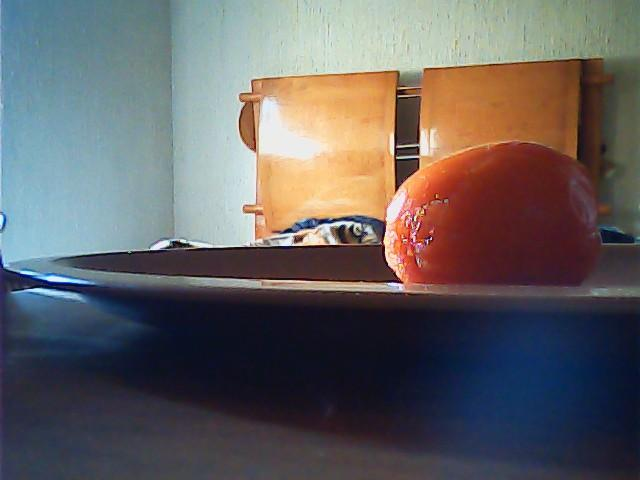maduro: (385, 141, 597, 287)
